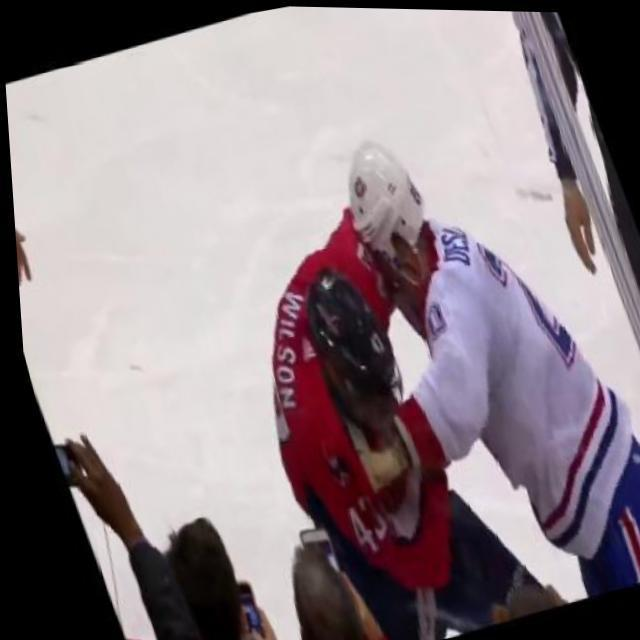fight: (168, 81, 640, 640)
